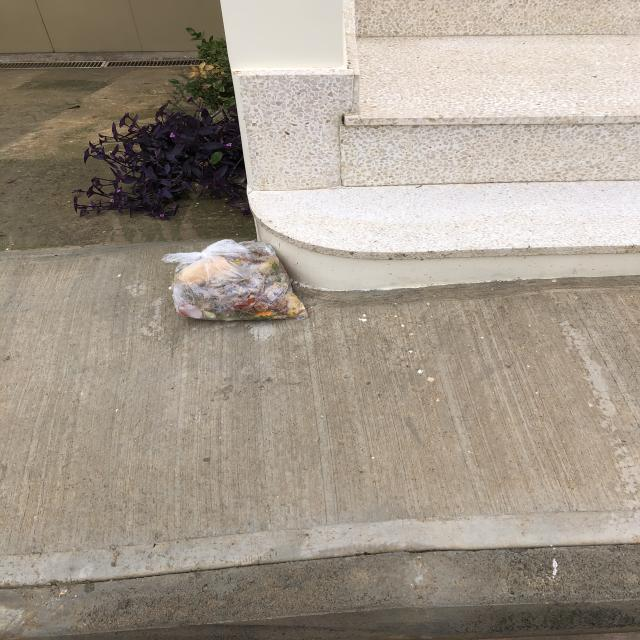Organic Waste -White Bag-: (160, 238, 315, 332)
